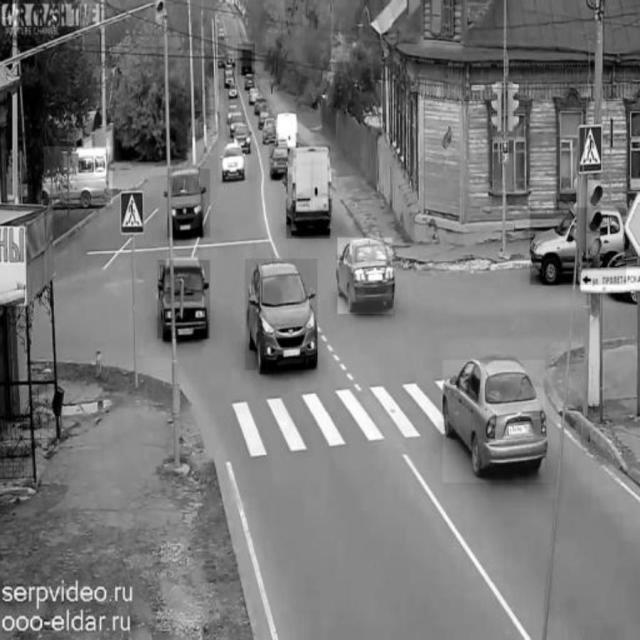vehicle: (442, 359, 544, 483), (246, 259, 318, 370), (530, 208, 626, 285), (337, 238, 393, 314), (157, 261, 211, 339), (286, 146, 330, 238), (44, 147, 112, 204), (168, 169, 210, 237), (219, 142, 247, 183), (269, 140, 287, 180), (238, 44, 255, 74), (229, 110, 247, 137), (254, 94, 269, 118), (224, 67, 234, 89)
